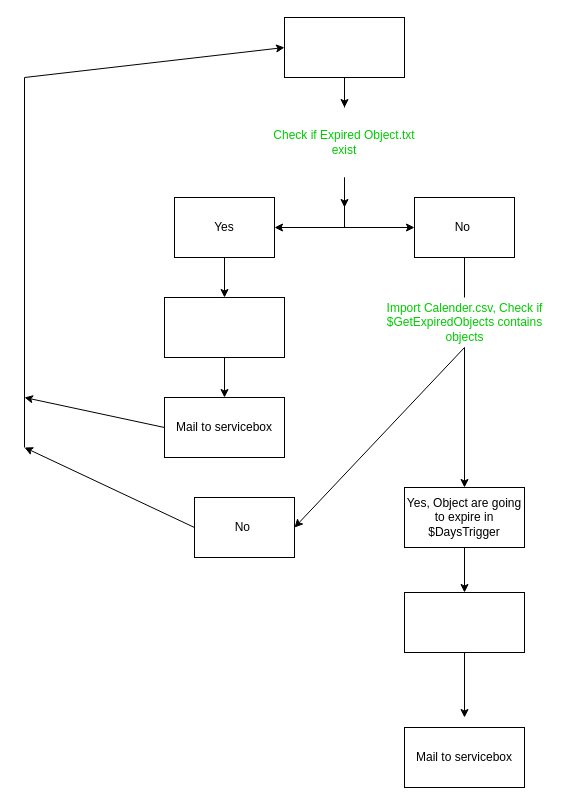
Some shapes in this 569 by 805 pixel diagram are drawn without their labels. The shapes that lost their labels are listed below. From the top down, each one's centre as x and y in pixels, then its label:
At point 344,47: "Powershell Script".
At point 224,327: "Delete, ExpiredObject.txt File".
At point 464,622: "Generate ExpiredObject.txt".
